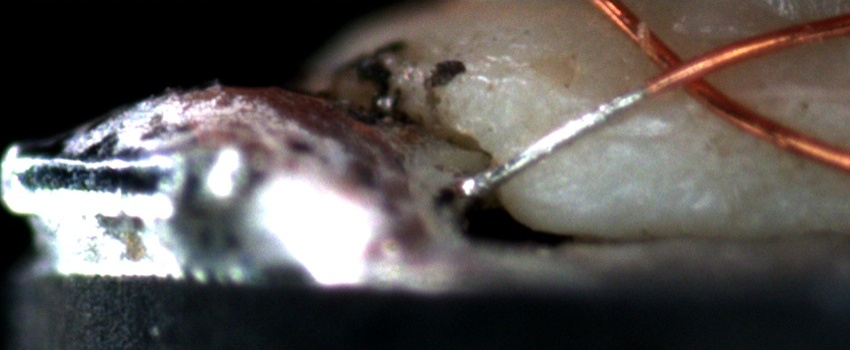CL: (645, 42, 732, 103)
DL: (615, 72, 850, 112), (559, 116, 685, 162)
TS: (462, 86, 645, 198)
